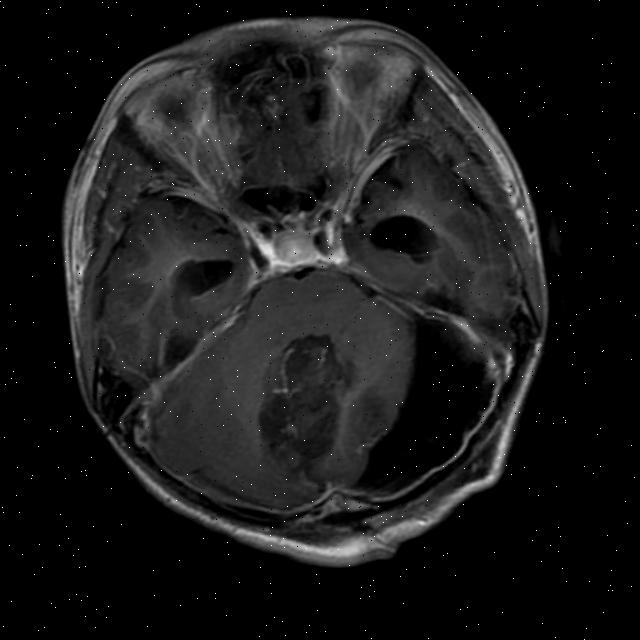Glioma: (229, 321, 381, 482)
Pituitary: (268, 223, 321, 269)
